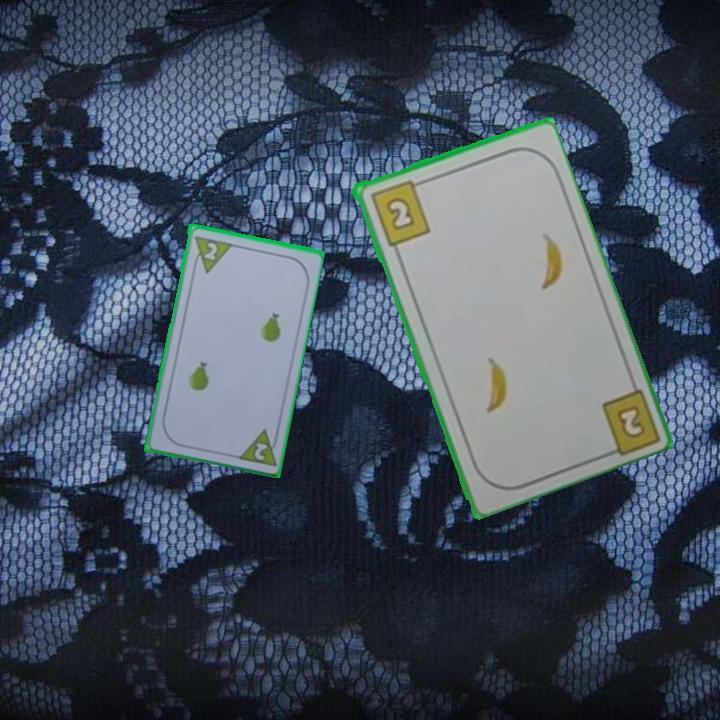2b: (366, 176, 433, 249), (613, 401, 648, 442)
2p: (233, 425, 282, 469), (189, 232, 234, 276)
